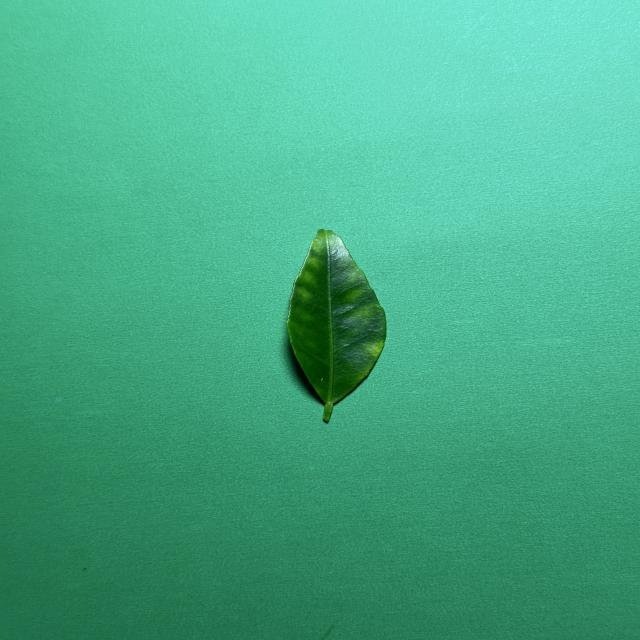greening: (287, 229, 386, 421)
